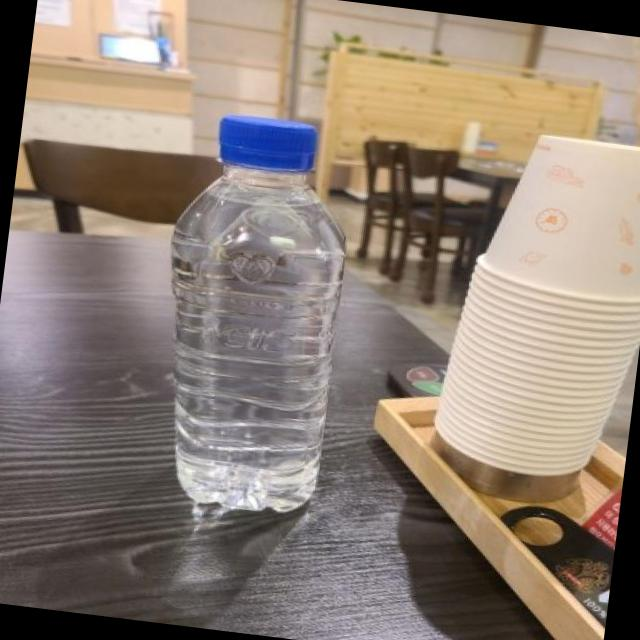plastic_bottle: (140, 109, 360, 518)
